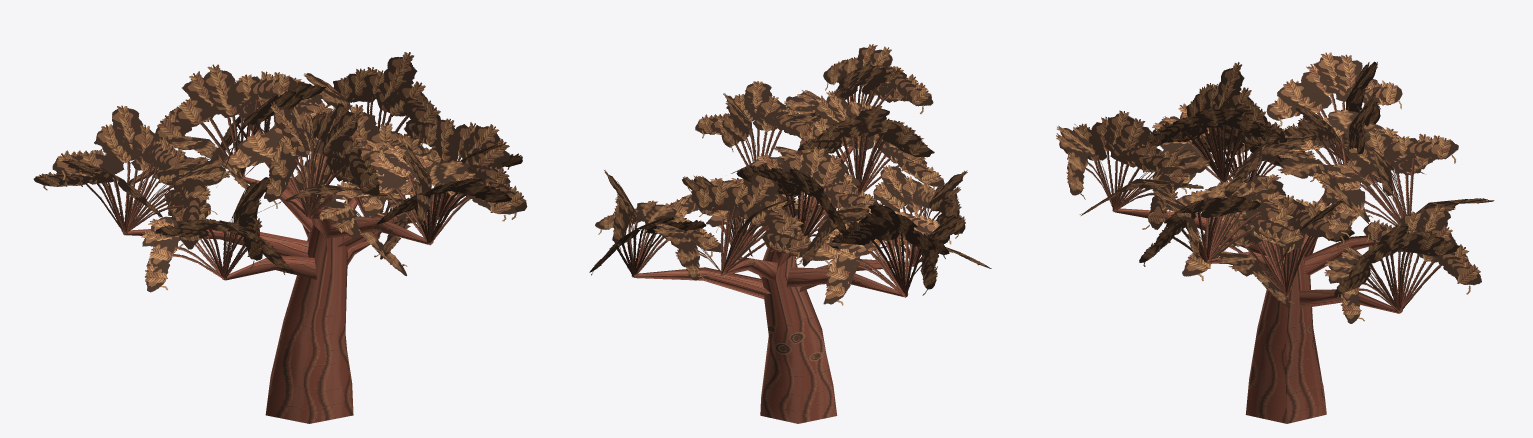
The model's file is badlands-mesquite-near.glb.
3 views of the same model, side by side, from view 1: azimuth 30°, elevation 25°; view 2: azimuth 150°, elevation 25°; view 3: azimuth 270°, elevation 25° (orthographic). The views are drawn at different scales.
Visible parts, largest first — view 1: Badlands mesquite near v3 runtime; view 2: Badlands mesquite near v3 runtime; view 3: Badlands mesquite near v3 runtime.
Part boxes in pixels (x1,y1,x2,y2): Badlands mesquite near v3 runtime: [33, 52, 527, 423]; Badlands mesquite near v3 runtime: [589, 44, 991, 423]; Badlands mesquite near v3 runtime: [1056, 52, 1494, 423].
Bounding box in the file's own units: 6.88 × 5.32 × 7.09.
1 material, 1 textured.
